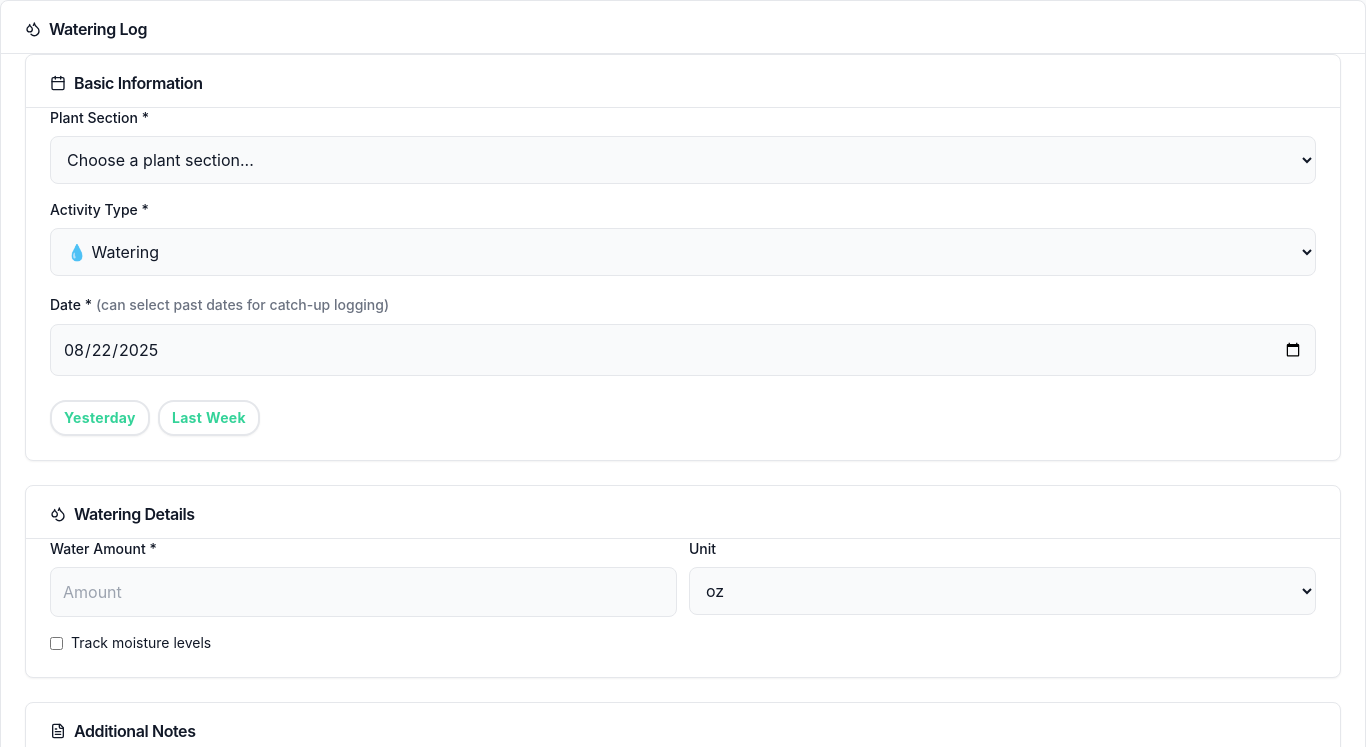
Test: Fertilizer Dropdown Tests › should handle missing protocols gracefully
// Select Unknown Plant group
Step 1. Select "Unknown Plant (1 plant) - Container D" in the dropdown labelled "Plant Section *" → point(683, 160), box [50,136,1316,184]
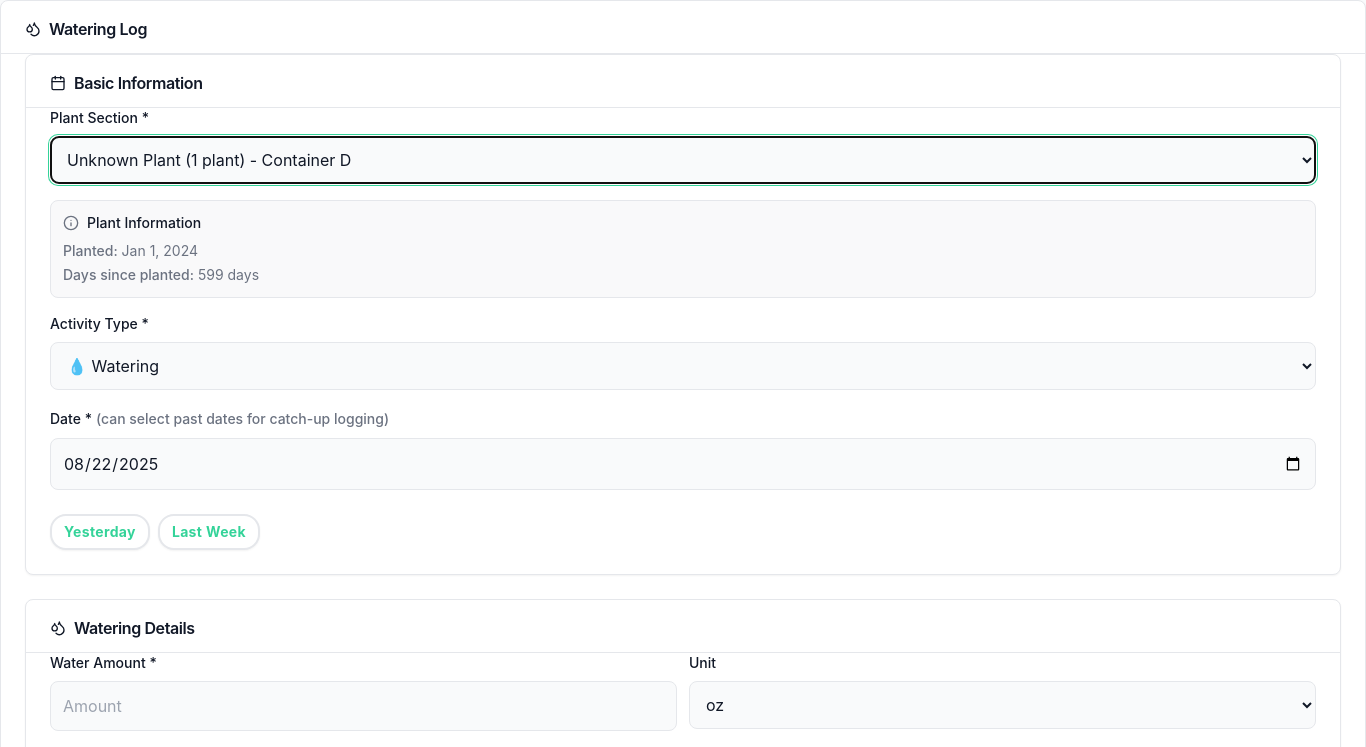
// Select fertilize activity type
Step 2. Select "🌱 Fertilizing" in the dropdown labelled "Activity Type *" → point(683, 366), box [50,342,1316,390]
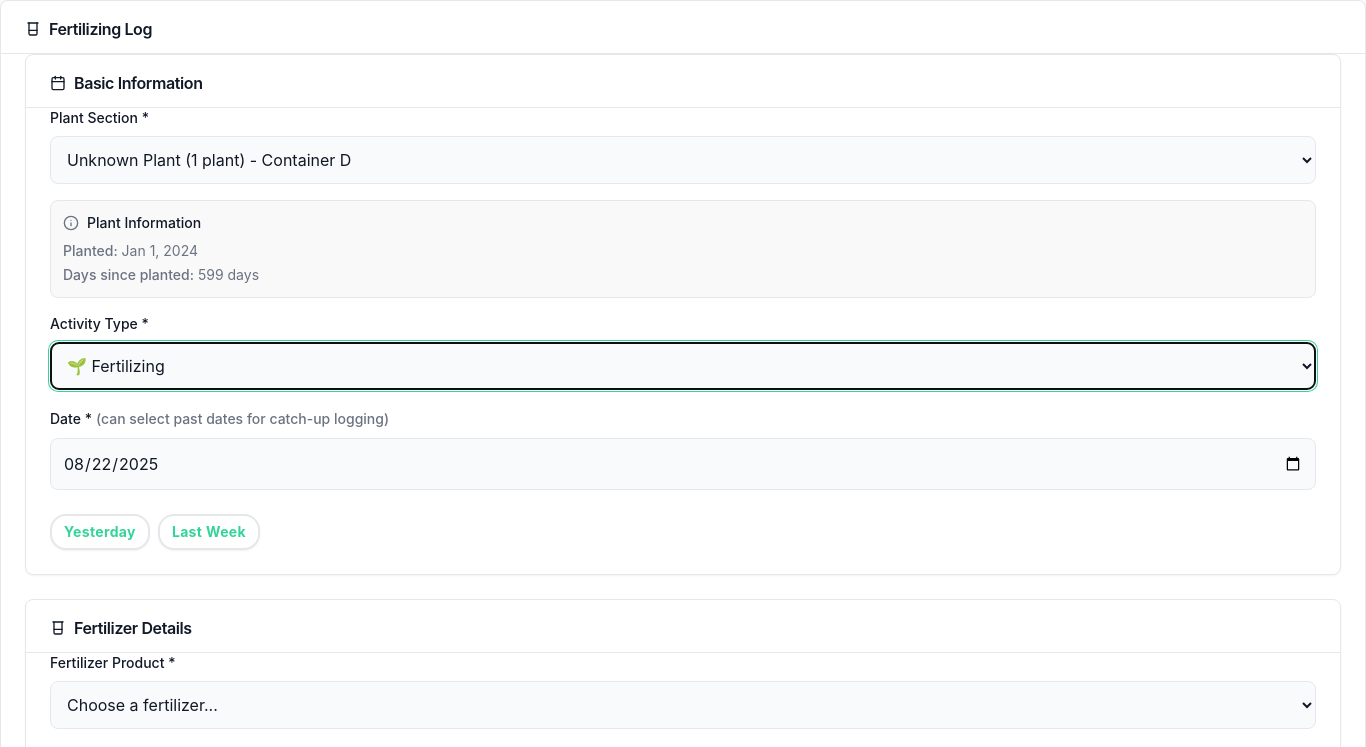
Check: the dropdown labelled "Fertilizer Product *" is shown, box [50,681,1316,729]
